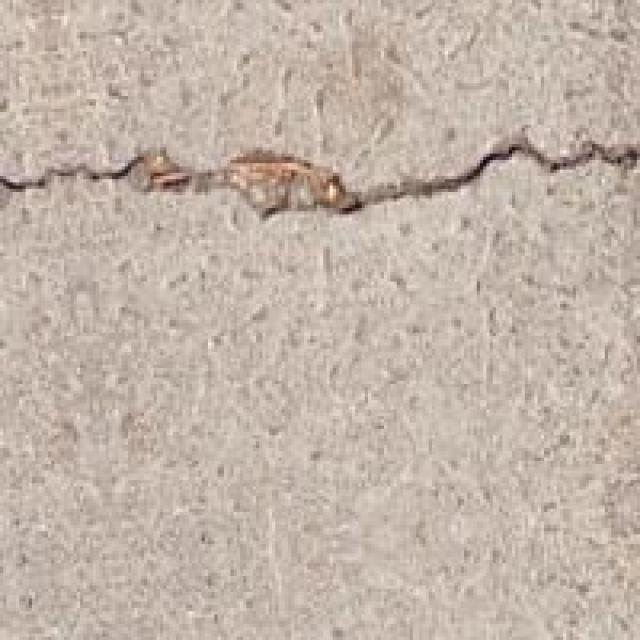crack: (9, 80, 636, 246)
